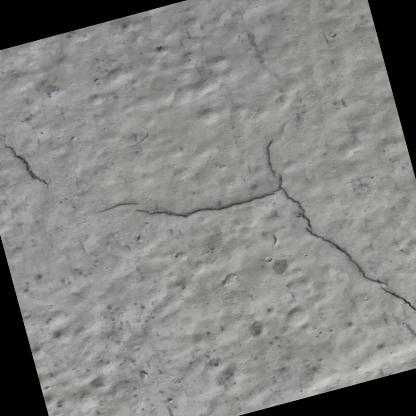crack: (127, 185, 416, 313), (3, 144, 50, 186)
